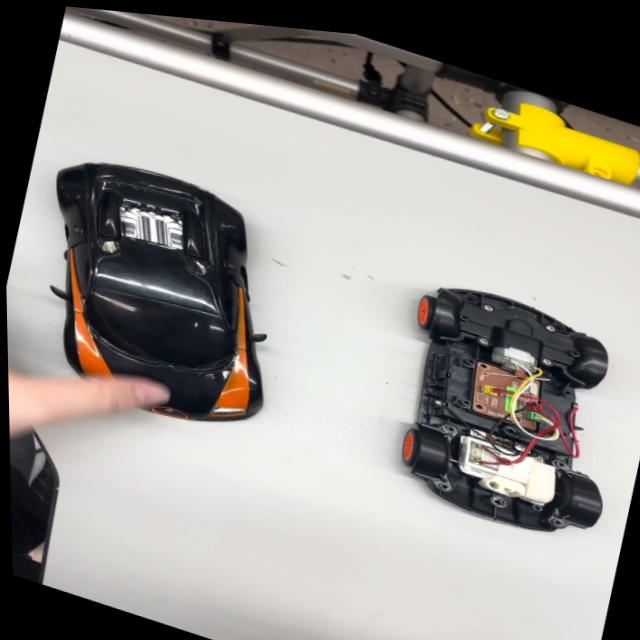Chassis: (368, 263, 640, 569)
vehicle_body: (26, 140, 312, 452)
